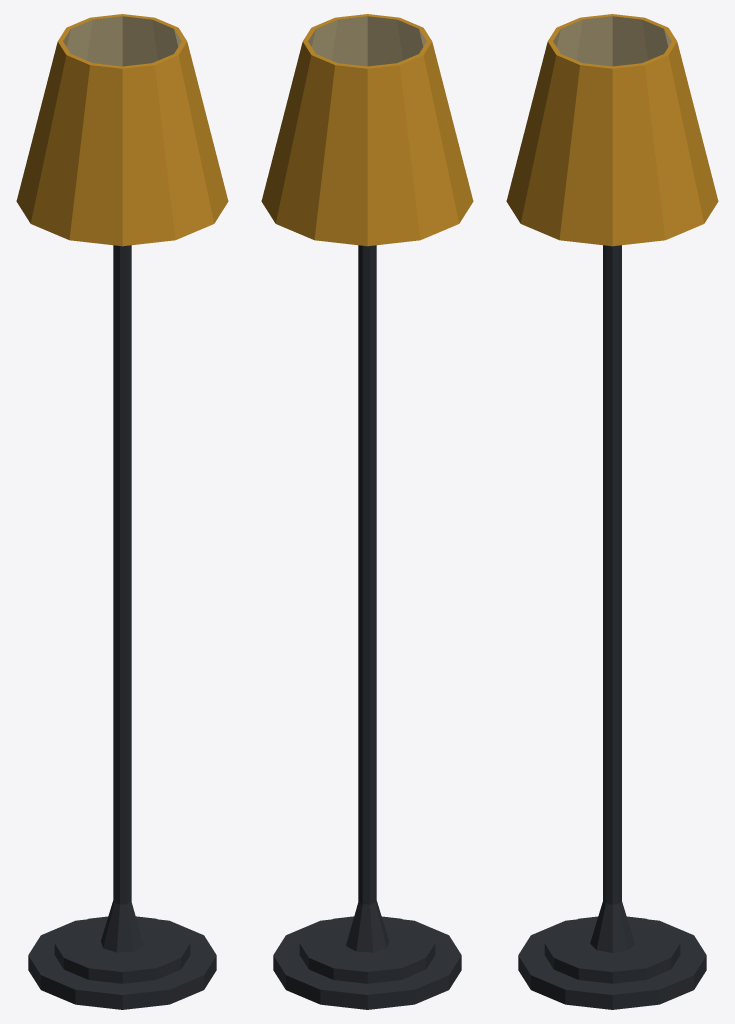
Rendered from floor-lamp-f0ba3f.glb.
3 renders of one model, left to right at view 1: azimuth 30°, elevation 25°; view 2: azimuth 150°, elevation 25°; view 3: azimuth 270°, elevation 25°, orthographic.
Parts seen in each view (by area): view 1: floor-lamp; view 2: floor-lamp; view 3: floor-lamp.
Boxes of the visible parts, left/top/right/bottom form: floor-lamp: left=16, top=14, right=228, bottom=1009; floor-lamp: left=261, top=14, right=473, bottom=1009; floor-lamp: left=506, top=14, right=718, bottom=1009.
Bounding box in the file's own units: 0.368 × 1.74 × 0.368.
